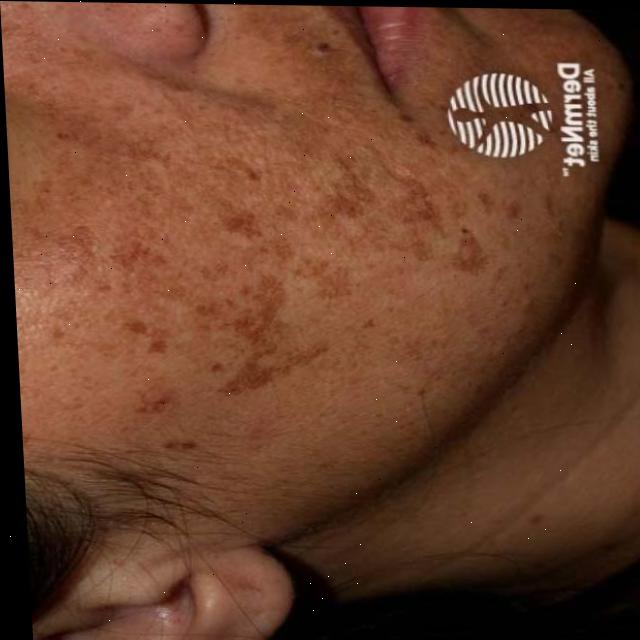Melasma: (113, 124, 449, 377)
